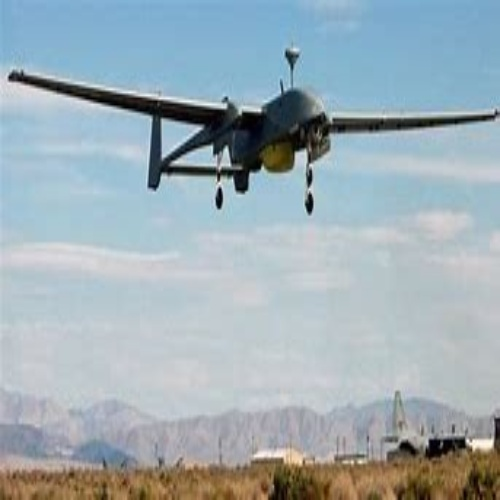uav: (7, 43, 500, 215)
